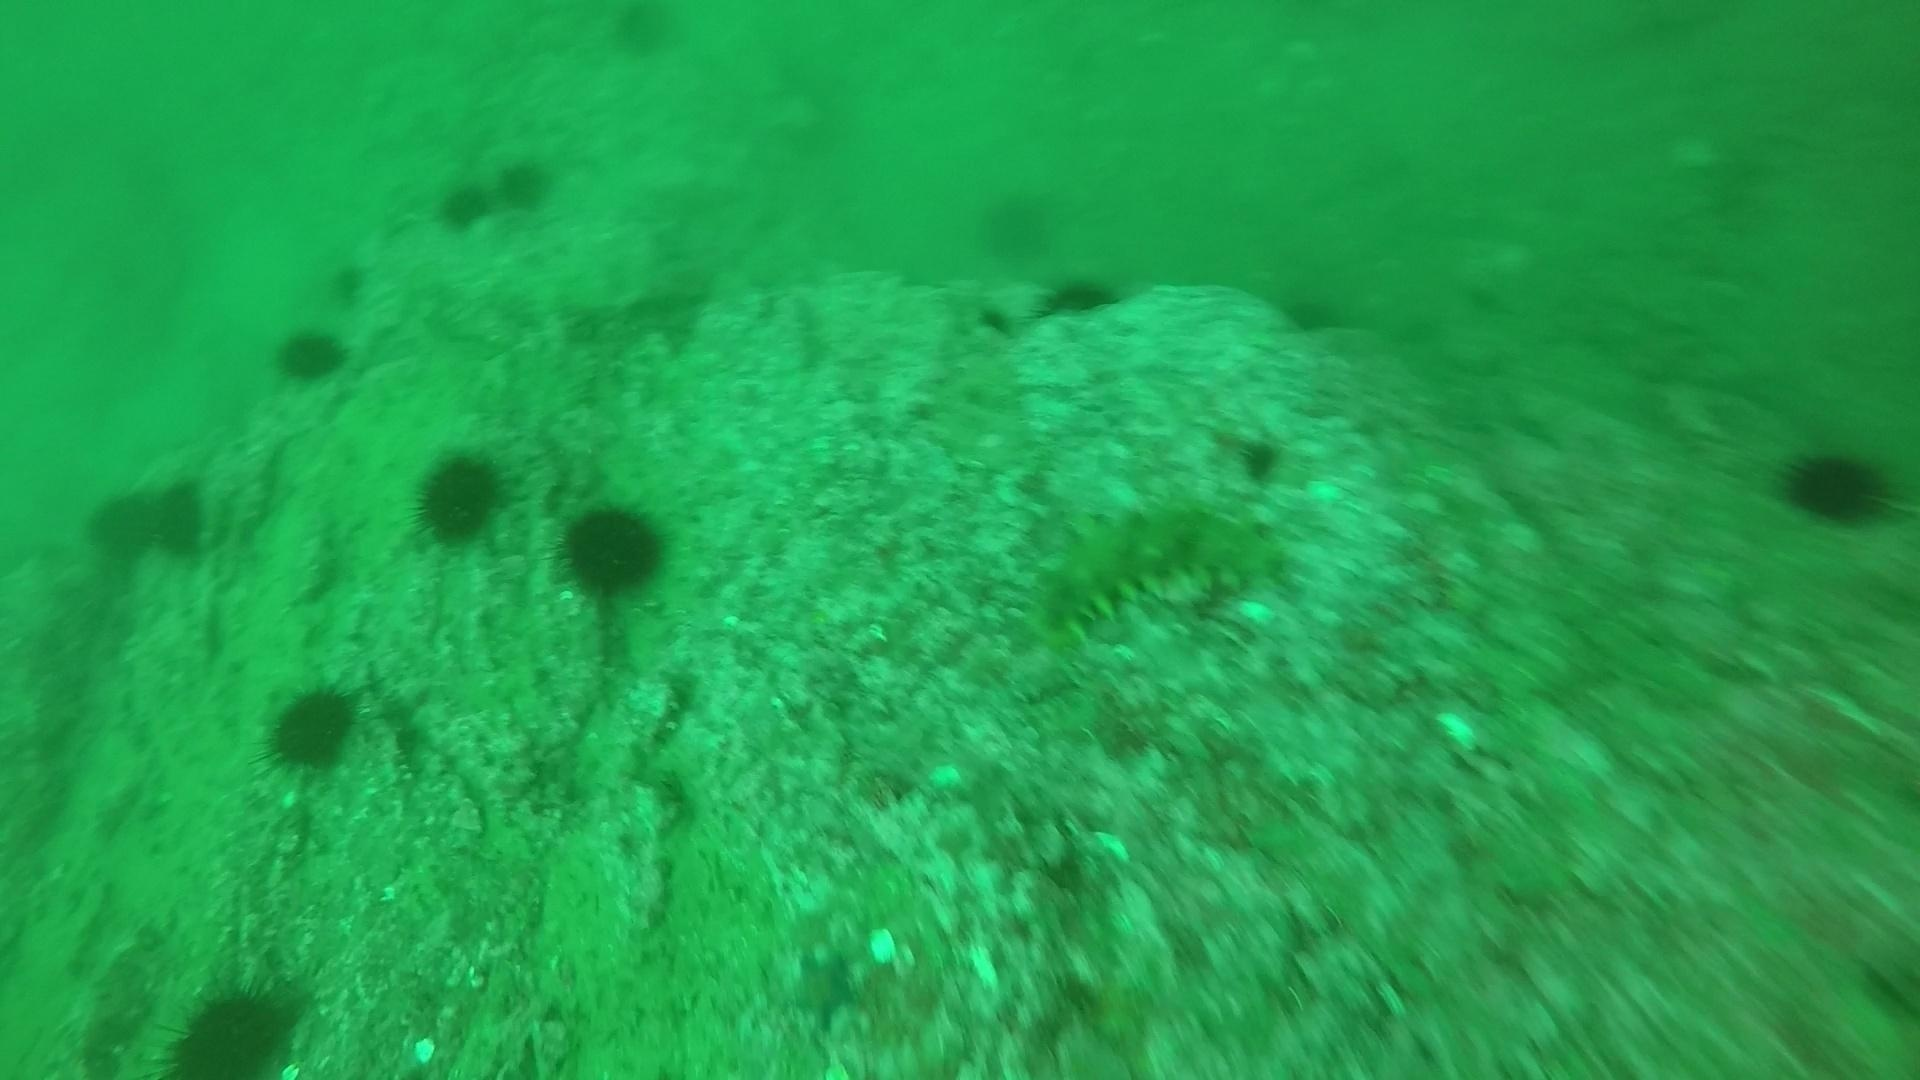echinus: (160, 976, 305, 1075), (553, 495, 673, 603), (407, 444, 513, 551), (258, 676, 365, 779), (1778, 440, 1898, 529), (83, 475, 158, 568), (975, 182, 1059, 264), (152, 476, 224, 564), (270, 320, 351, 388), (604, 1, 686, 61), (1038, 268, 1124, 322), (488, 152, 558, 216), (433, 167, 498, 233), (1273, 284, 1346, 338), (323, 256, 371, 306)
holothurian: (1017, 491, 1284, 650)
